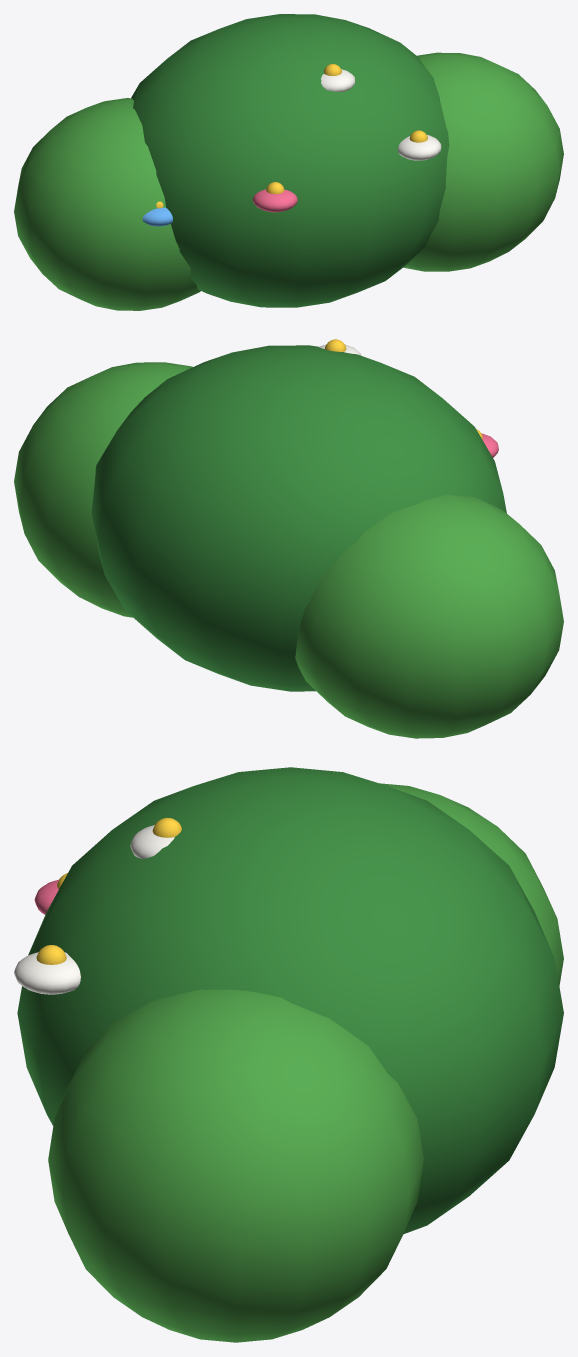
The model's file is Nature_BushFlowers.glb.
3 renders of one model, top to bottom at view 1: azimuth 30°, elevation 25°; view 2: azimuth 150°, elevation 25°; view 3: azimuth 270°, elevation 25°, orthographic. The views are drawn at different scales.
Parts seen in each view (by area): view 1: Nature_BushFlowers; view 2: Nature_BushFlowers; view 3: Nature_BushFlowers.
Part boxes in pixels (x1,y1,x2,y2): Nature_BushFlowers: (14, 14, 563, 310); Nature_BushFlowers: (14, 339, 563, 738); Nature_BushFlowers: (14, 767, 563, 1342).
Bounding box in the file's own units: 1.33 × 0.68 × 0.805.
